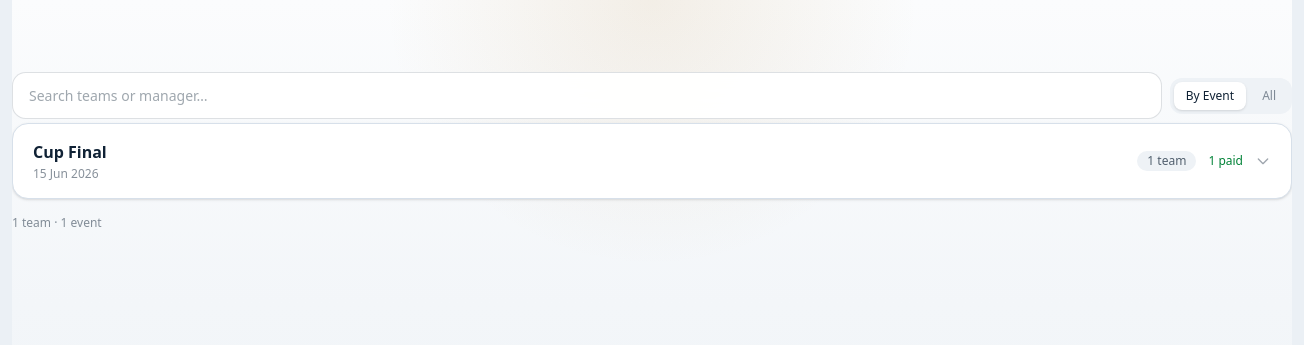
Test: TeamsTab › expands event group on click to show teams
Click the text "Cup Final" at x=70, y=152, box top-left (33, 140), bottom-right (107, 164)
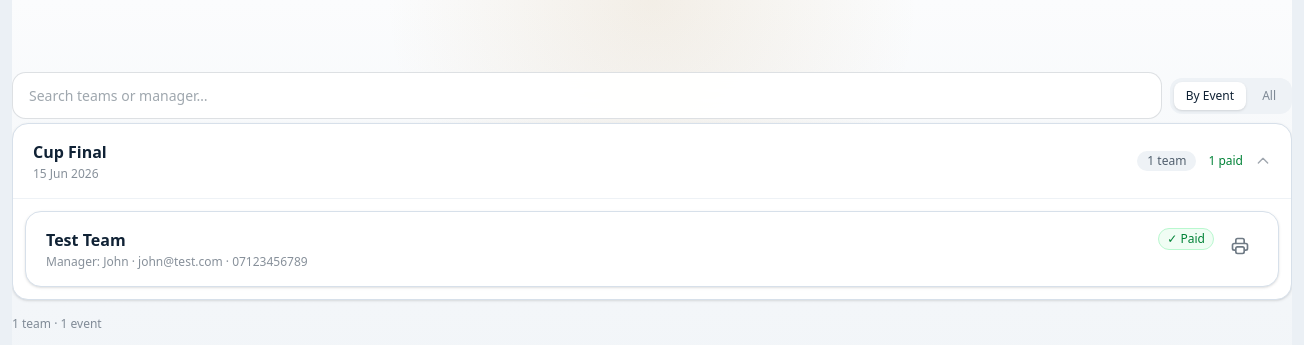
Now the text "Test Team" is shown, box top-left (46, 229), bottom-right (126, 251)
